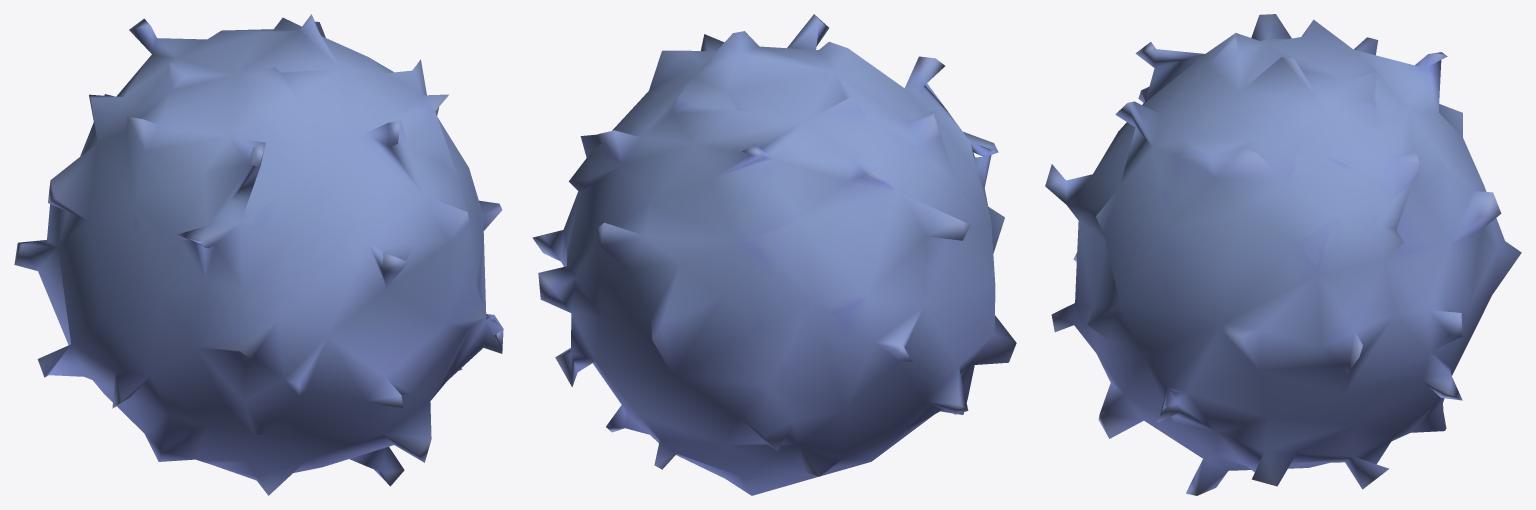
Rendered from enveloped-virus.glb.
3 views of the same model, side by side, from view 1: azimuth 30°, elevation 25°; view 2: azimuth 150°, elevation 25°; view 3: azimuth 270°, elevation 25° (orthographic). The views are drawn at different scales.
Visible parts, largest first — view 1: enveloped-virus; view 2: enveloped-virus; view 3: enveloped-virus.
Part boxes in pixels (x1,y1,x2,y2): enveloped-virus: [14, 14, 503, 495]; enveloped-virus: [532, 14, 1016, 495]; enveloped-virus: [1045, 14, 1521, 495].
Bounding box in the file's own units: 1.69 × 1.67 × 1.7.
Materials: 1 (1 with a texture image).
